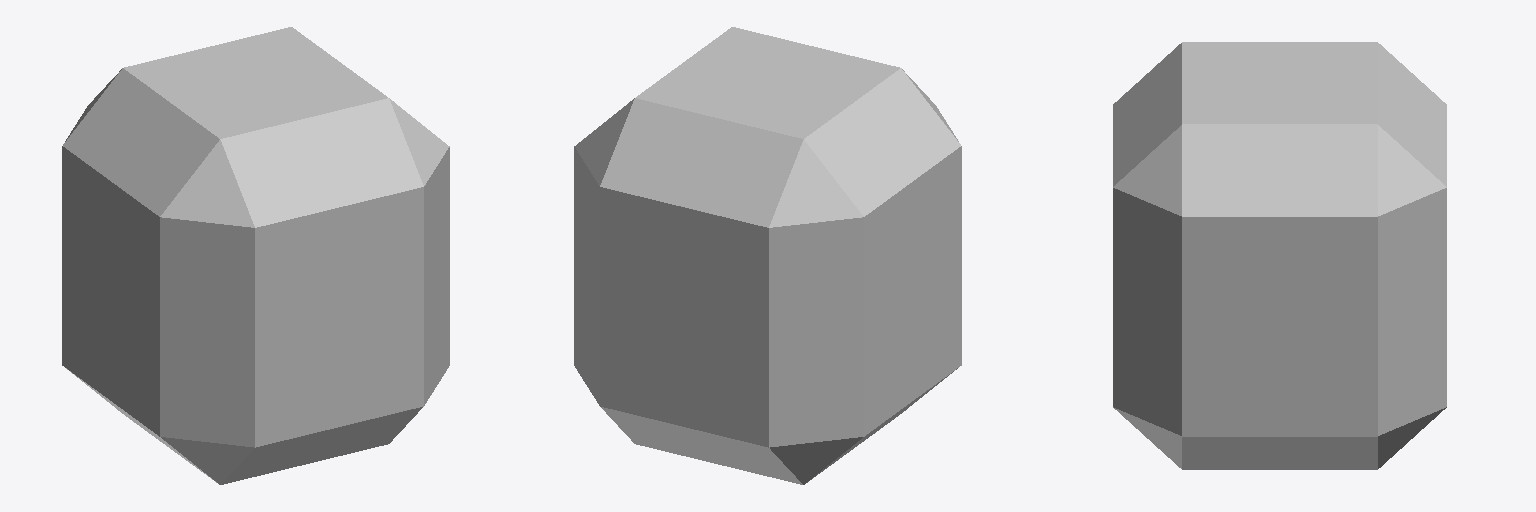
Rendered from TestCube.obj.
The picture shows the model from 3 angles: view 1: azimuth 30°, elevation 25°; view 2: azimuth 150°, elevation 25°; view 3: azimuth 270°, elevation 25°; orthographic projection.
Visible parts, largest first — view 1: Cube; view 2: Cube; view 3: Cube.
Boxes of the visible parts, x1,y1,x2,y2 form: Cube: [62, 27, 449, 484]; Cube: [574, 27, 961, 484]; Cube: [1113, 42, 1446, 469].
Size of the model in its own units: 2 by 2.28 by 2.